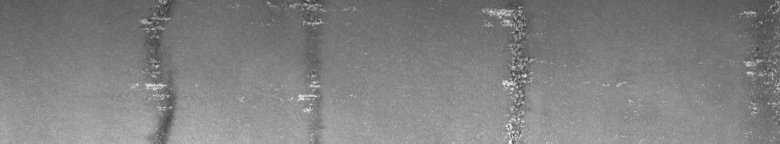hc: (479, 4, 636, 136)
